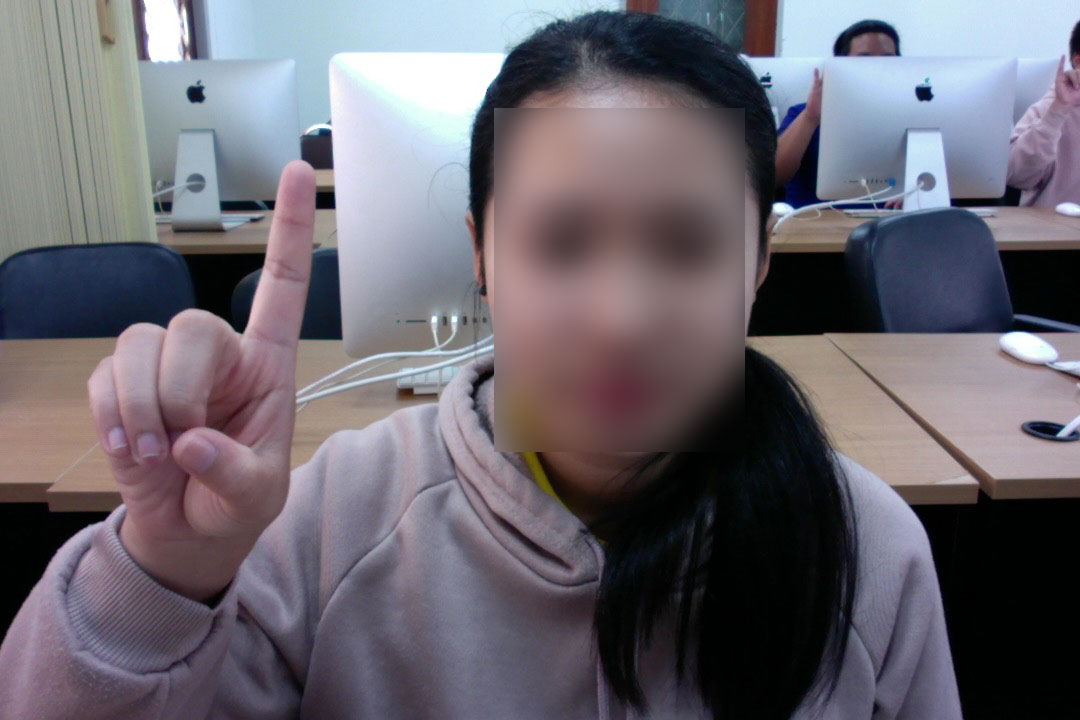dor: (83, 151, 326, 537)
